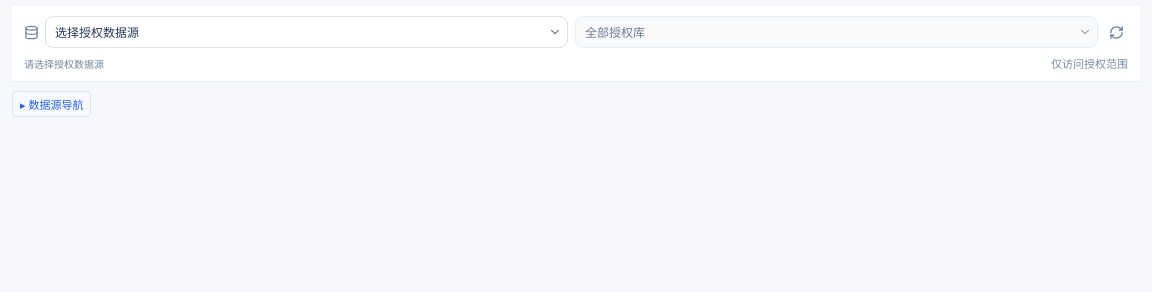
Test: Schema Explorer API integration › locks the shared context during an active assistant request and keeps namespaces disabled without a source
The image size is (1152, 292).
Click the button "▸ 数据源导航": [52, 104] box [12,91,91,117]
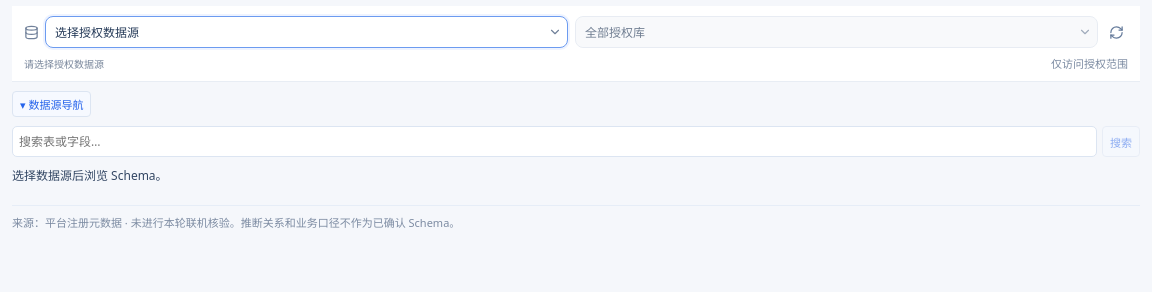
Expected: the dropdown named "选择数据库或 Schema" is disabled, [576,17,1072,47]
Click the dropdown named "选择数据源": [294, 32] box [46,17,542,47]
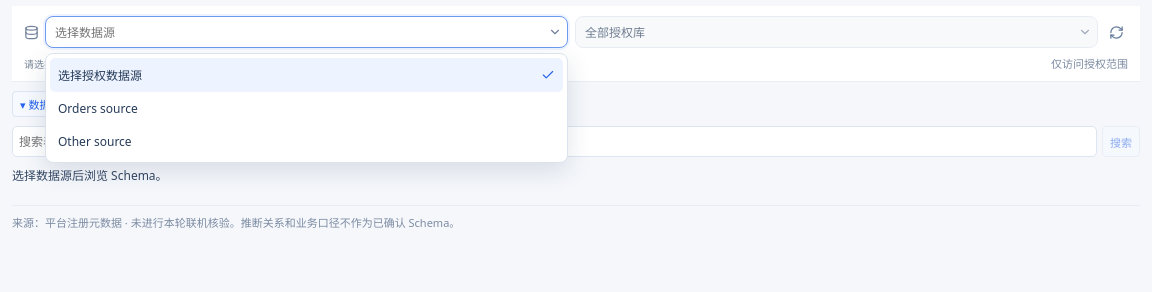
Expected: the option "Orders source" is shown
Click the option "Orders source": [98, 108] box [50,92,563,125]
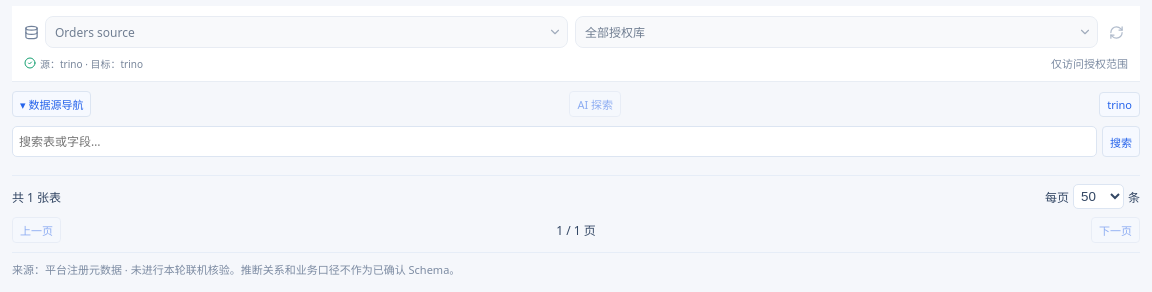
Expected: the dropdown named "选择数据库或 Schema" is disabled, [576,17,1072,47]
Expected: the dropdown named "选择数据源" is disabled, [46,17,542,47]
